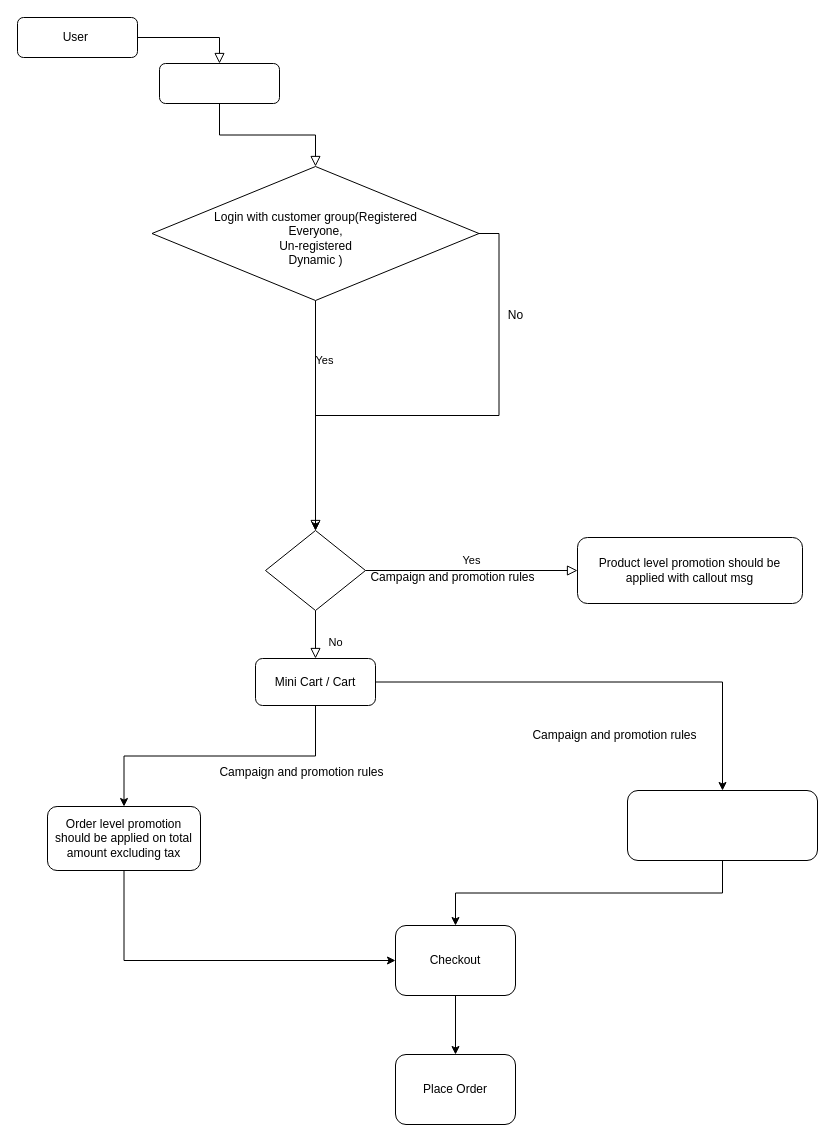
The diagram is 835 pixels wide and 1142 high, and some of its shapes have lost their labels. The shapes that lost their labels are listed below. From the top down, each one's centre as x and y in pixels, then its label:
At (219,83): "Mobile / SSO".
At (315,570): "PDP/PLP".
At (722,825): "Shipping level promotion should be applied on total amount excluding tax".
